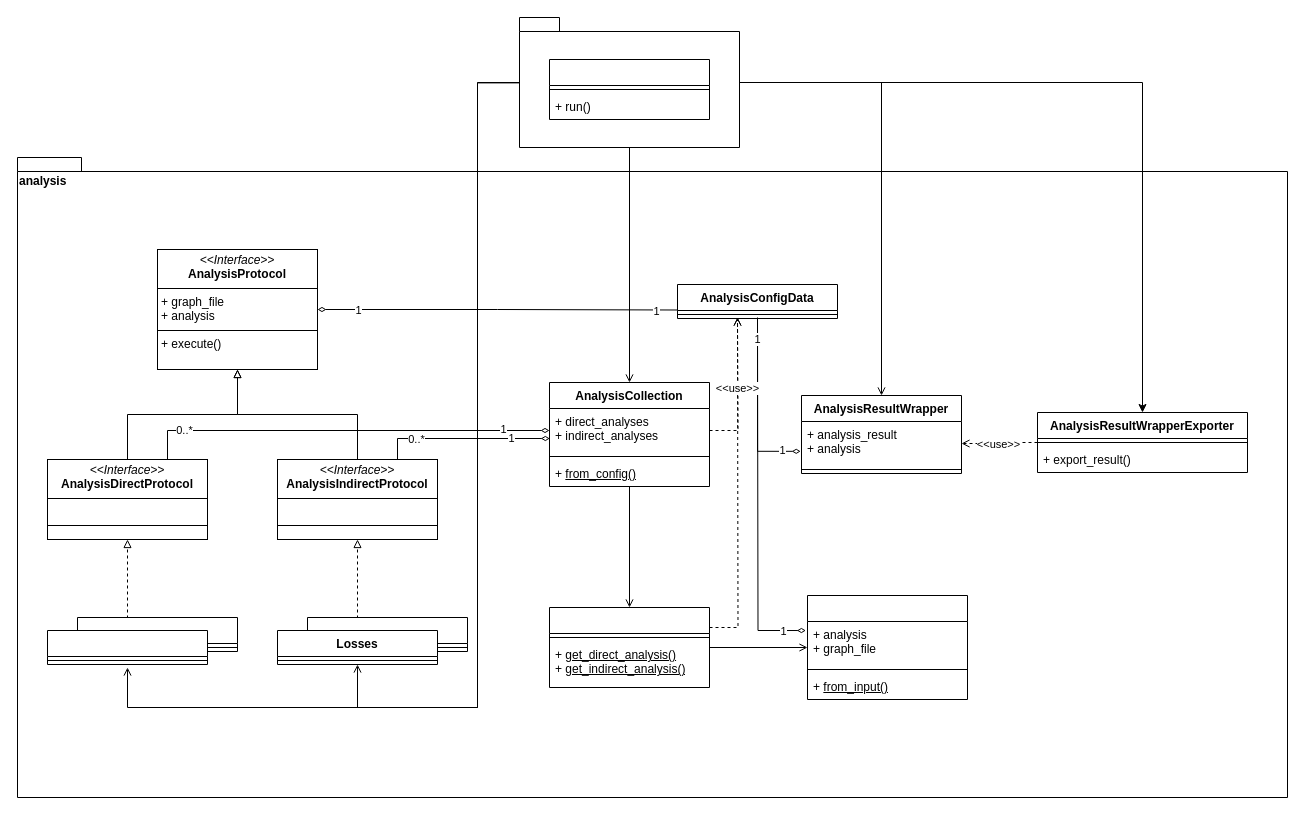
Some shapes in this 1305 by 815 pixel diagram are drawn without their labels. The shapes that lost their labels are listed below. From the top down, each one's box as (x1, y1, x2, y2) in pixels, then its label:
(518, 16, 740, 148): runners
(548, 58, 710, 120): AnalysisRunner
(46, 630, 208, 664): Damage
(548, 606, 710, 688): AnalysisFactory
(806, 594, 968, 700): AnalysisInputWrapper
